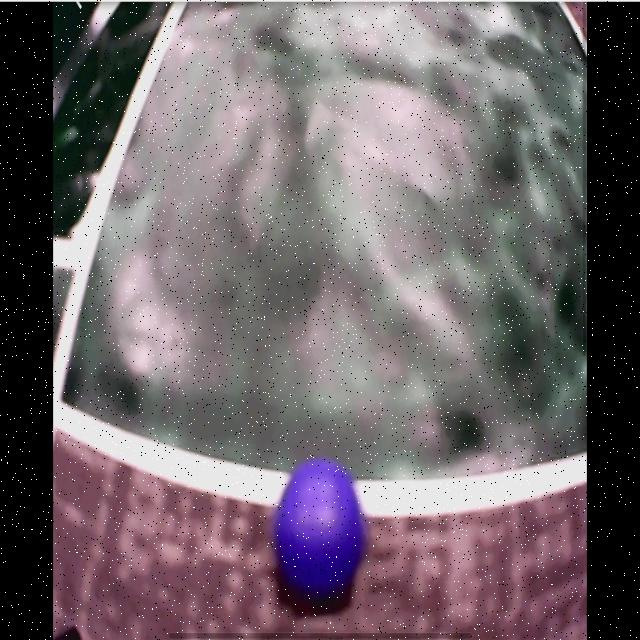ball: (276, 461, 365, 600)
